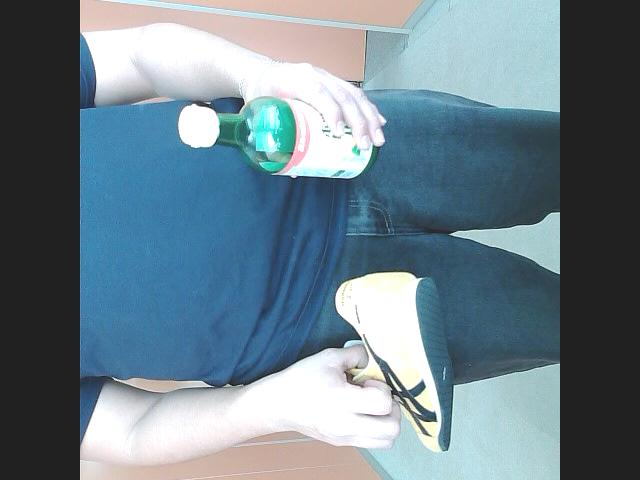Lemon_sapporo: (170, 88, 382, 178)
Shoes: (333, 264, 449, 460)
